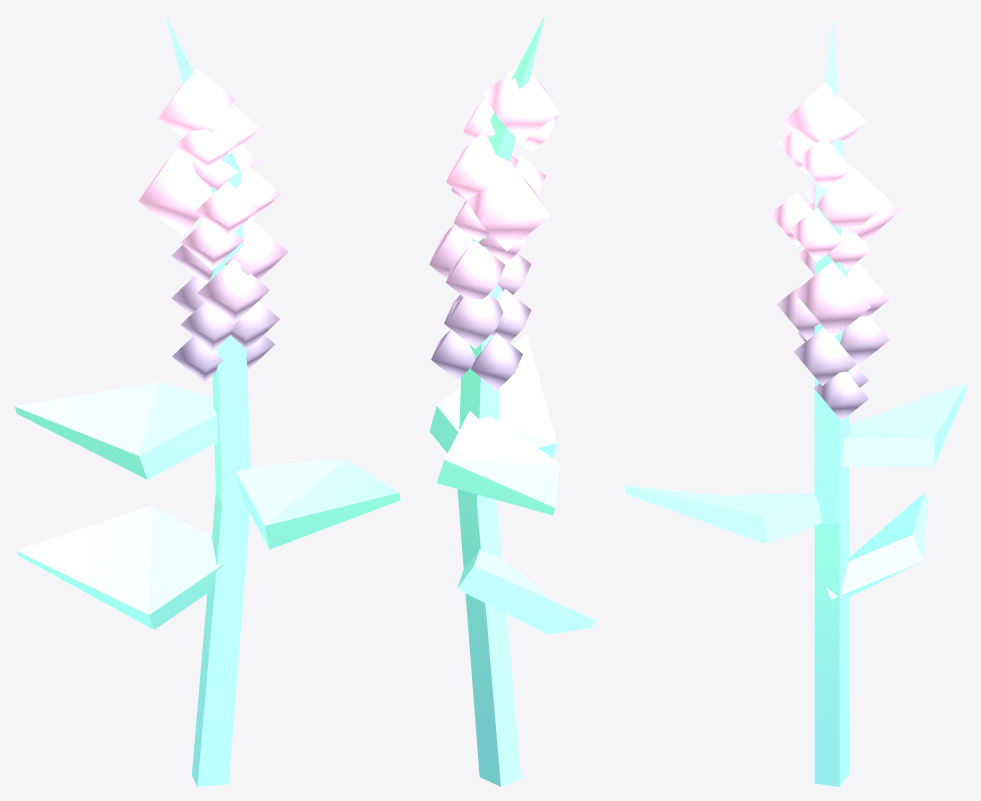
The model's file is Snowdrop_Purple.glb.
The picture shows the model from 3 angles, left to right: view 1: azimuth 30°, elevation 25°; view 2: azimuth 150°, elevation 25°; view 3: azimuth 270°, elevation 25°; orthographic projection. The views are drawn at different scales.
Visible parts, largest first — view 1: SnowDrop_Purple_Material #150_0; view 2: SnowDrop_Purple_Material #150_0; view 3: SnowDrop_Purple_Material #150_0.
Part boxes in pixels (left/top/right/bottom): SnowDrop_Purple_Material #150_0: left=14, top=15, right=400, bottom=786; SnowDrop_Purple_Material #150_0: left=429, top=15, right=596, bottom=786; SnowDrop_Purple_Material #150_0: left=625, top=14, right=966, bottom=786.
Bounding box in the file's own units: 0.2965 × 0.8789 × 0.3652.
